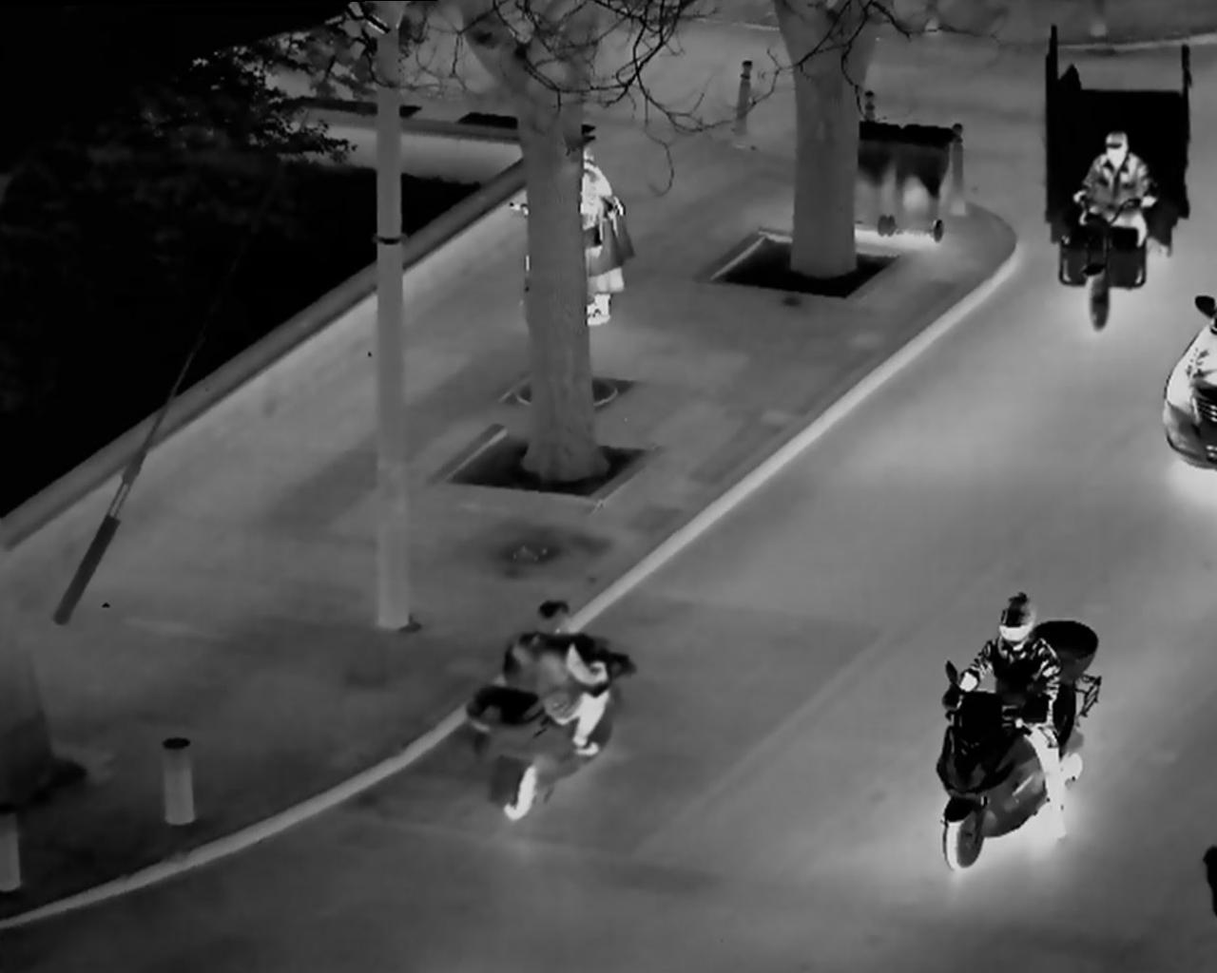person: (933, 567, 1078, 855), (473, 582, 617, 816), (1069, 119, 1163, 322), (571, 140, 644, 336)
